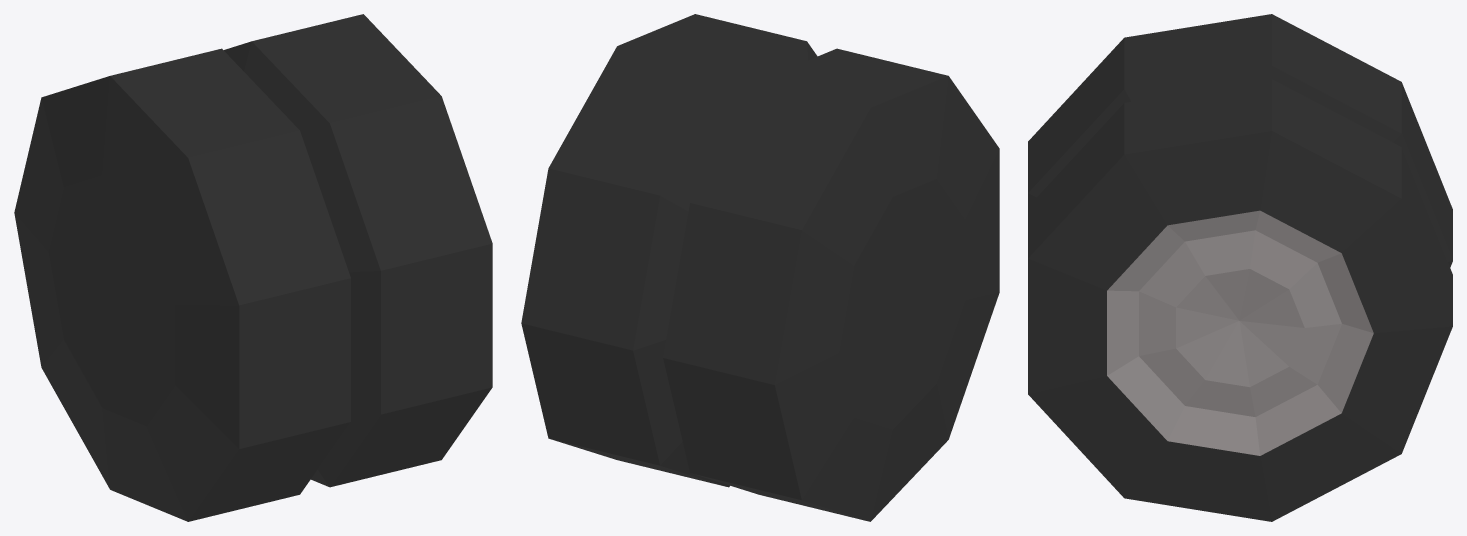
The model's file is car-truck-dump-wheel_BL2.glb.
The picture shows the model from 3 angles, left to right: view 1: azimuth 30°, elevation 25°; view 2: azimuth 150°, elevation 25°; view 3: azimuth 270°, elevation 25°; orthographic projection. The views are drawn at different scales.
Parts seen in each view (by area): view 1: car-truck-dump-wheel_BL2; view 2: car-truck-dump-wheel_BL2; view 3: car-truck-dump-wheel_BL2.
Boxes of the visible parts, bbox=[...] form: car-truck-dump-wheel_BL2: bbox=[14, 14, 492, 521]; car-truck-dump-wheel_BL2: bbox=[521, 14, 999, 521]; car-truck-dump-wheel_BL2: bbox=[1028, 14, 1452, 521].
Size of the model in its own units: 0.7853 by 1.1 by 1.08.
Materials: 1 (1 with a texture image).
